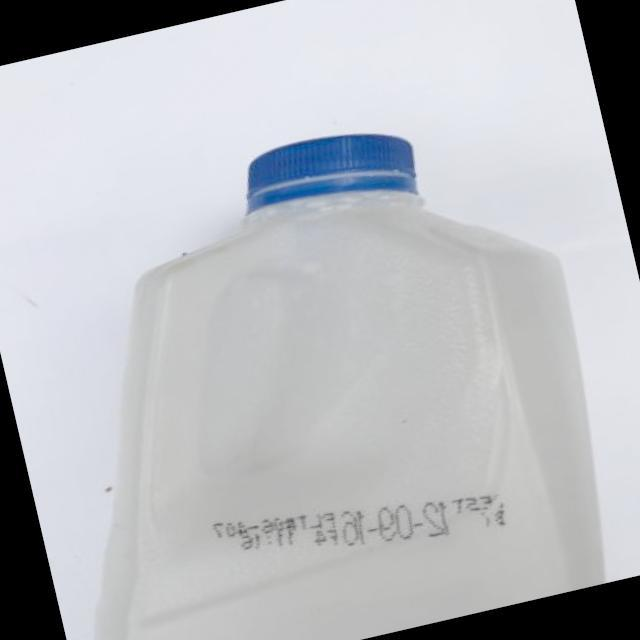HDPE Plastic: (92, 132, 608, 639)
